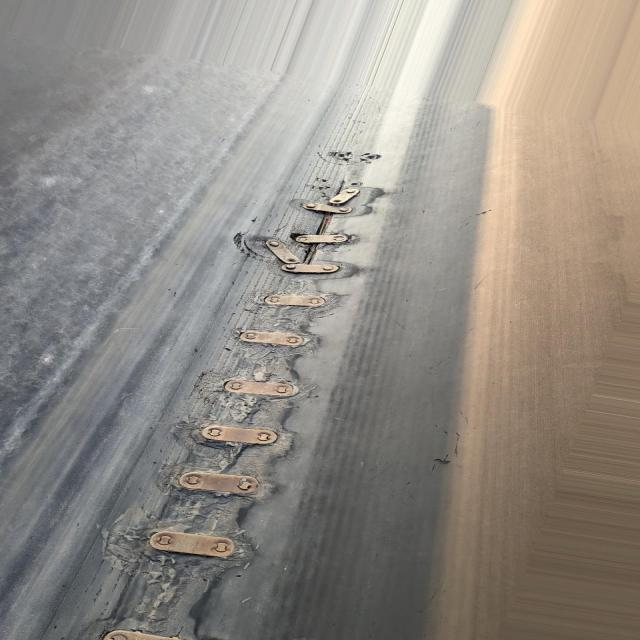patch work: (84, 144, 395, 640)
